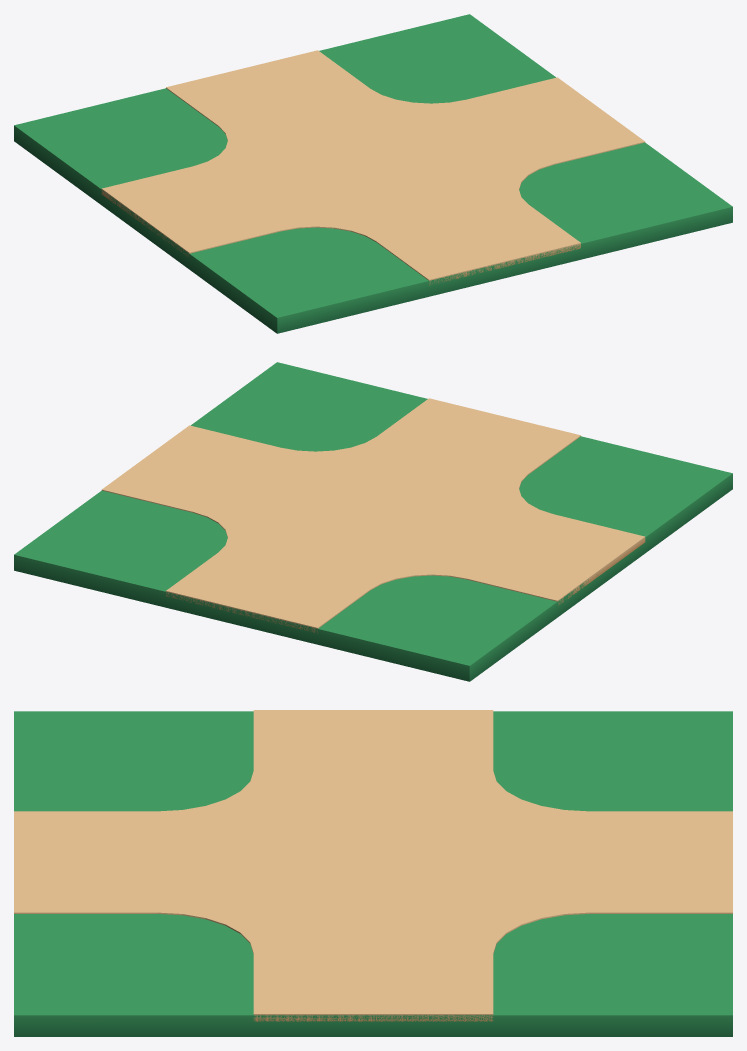
The model's file is camino_cruce.glb.
3 views of the same model, one above another, from view 1: azimuth 30°, elevation 25°; view 2: azimuth 150°, elevation 25°; view 3: azimuth 270°, elevation 25° (orthographic). The views are drawn at different scales.
Visible parts, largest first — view 1: camino_cruce; view 2: camino_cruce; view 3: camino_cruce.
Boxes of the visible parts, box(x1,y1,x2,y2) form: camino_cruce: box(14, 14, 732, 333); camino_cruce: box(14, 362, 732, 681); camino_cruce: box(14, 710, 732, 1036).
Bounding box in the file's own units: 6 × 0.212 × 6.
1 material, 1 textured.
